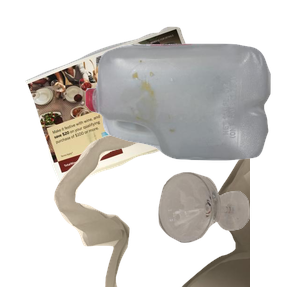glass: (156, 170, 300, 300)
paper: (23, 24, 232, 199)
plastic: (83, 41, 300, 194)
trash: (51, 120, 291, 300)
